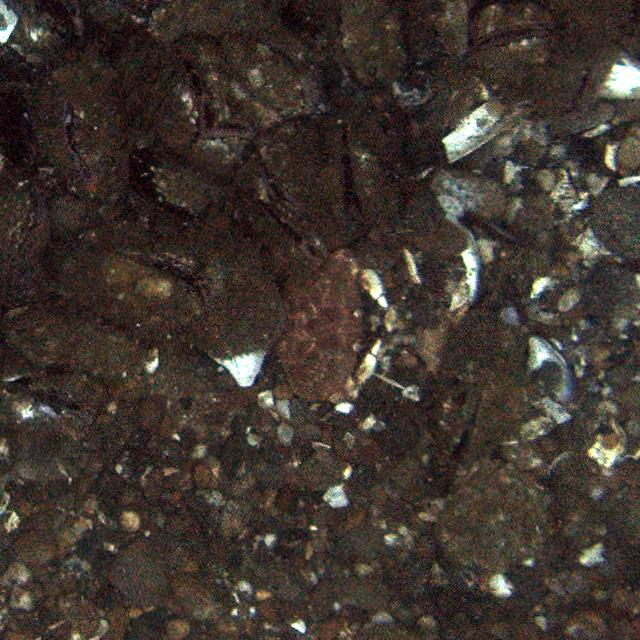crab: (290, 247, 392, 408)
